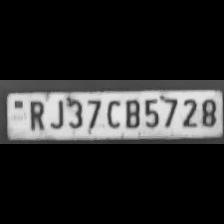2: (178, 96, 198, 130)
3: (65, 96, 83, 130)
5: (142, 96, 160, 130)
7: (84, 97, 103, 130), (160, 96, 178, 130)
8: (198, 96, 218, 128)
B: (122, 97, 140, 129)
C: (103, 97, 121, 129)
J: (48, 96, 64, 130)
R: (24, 98, 46, 132)
